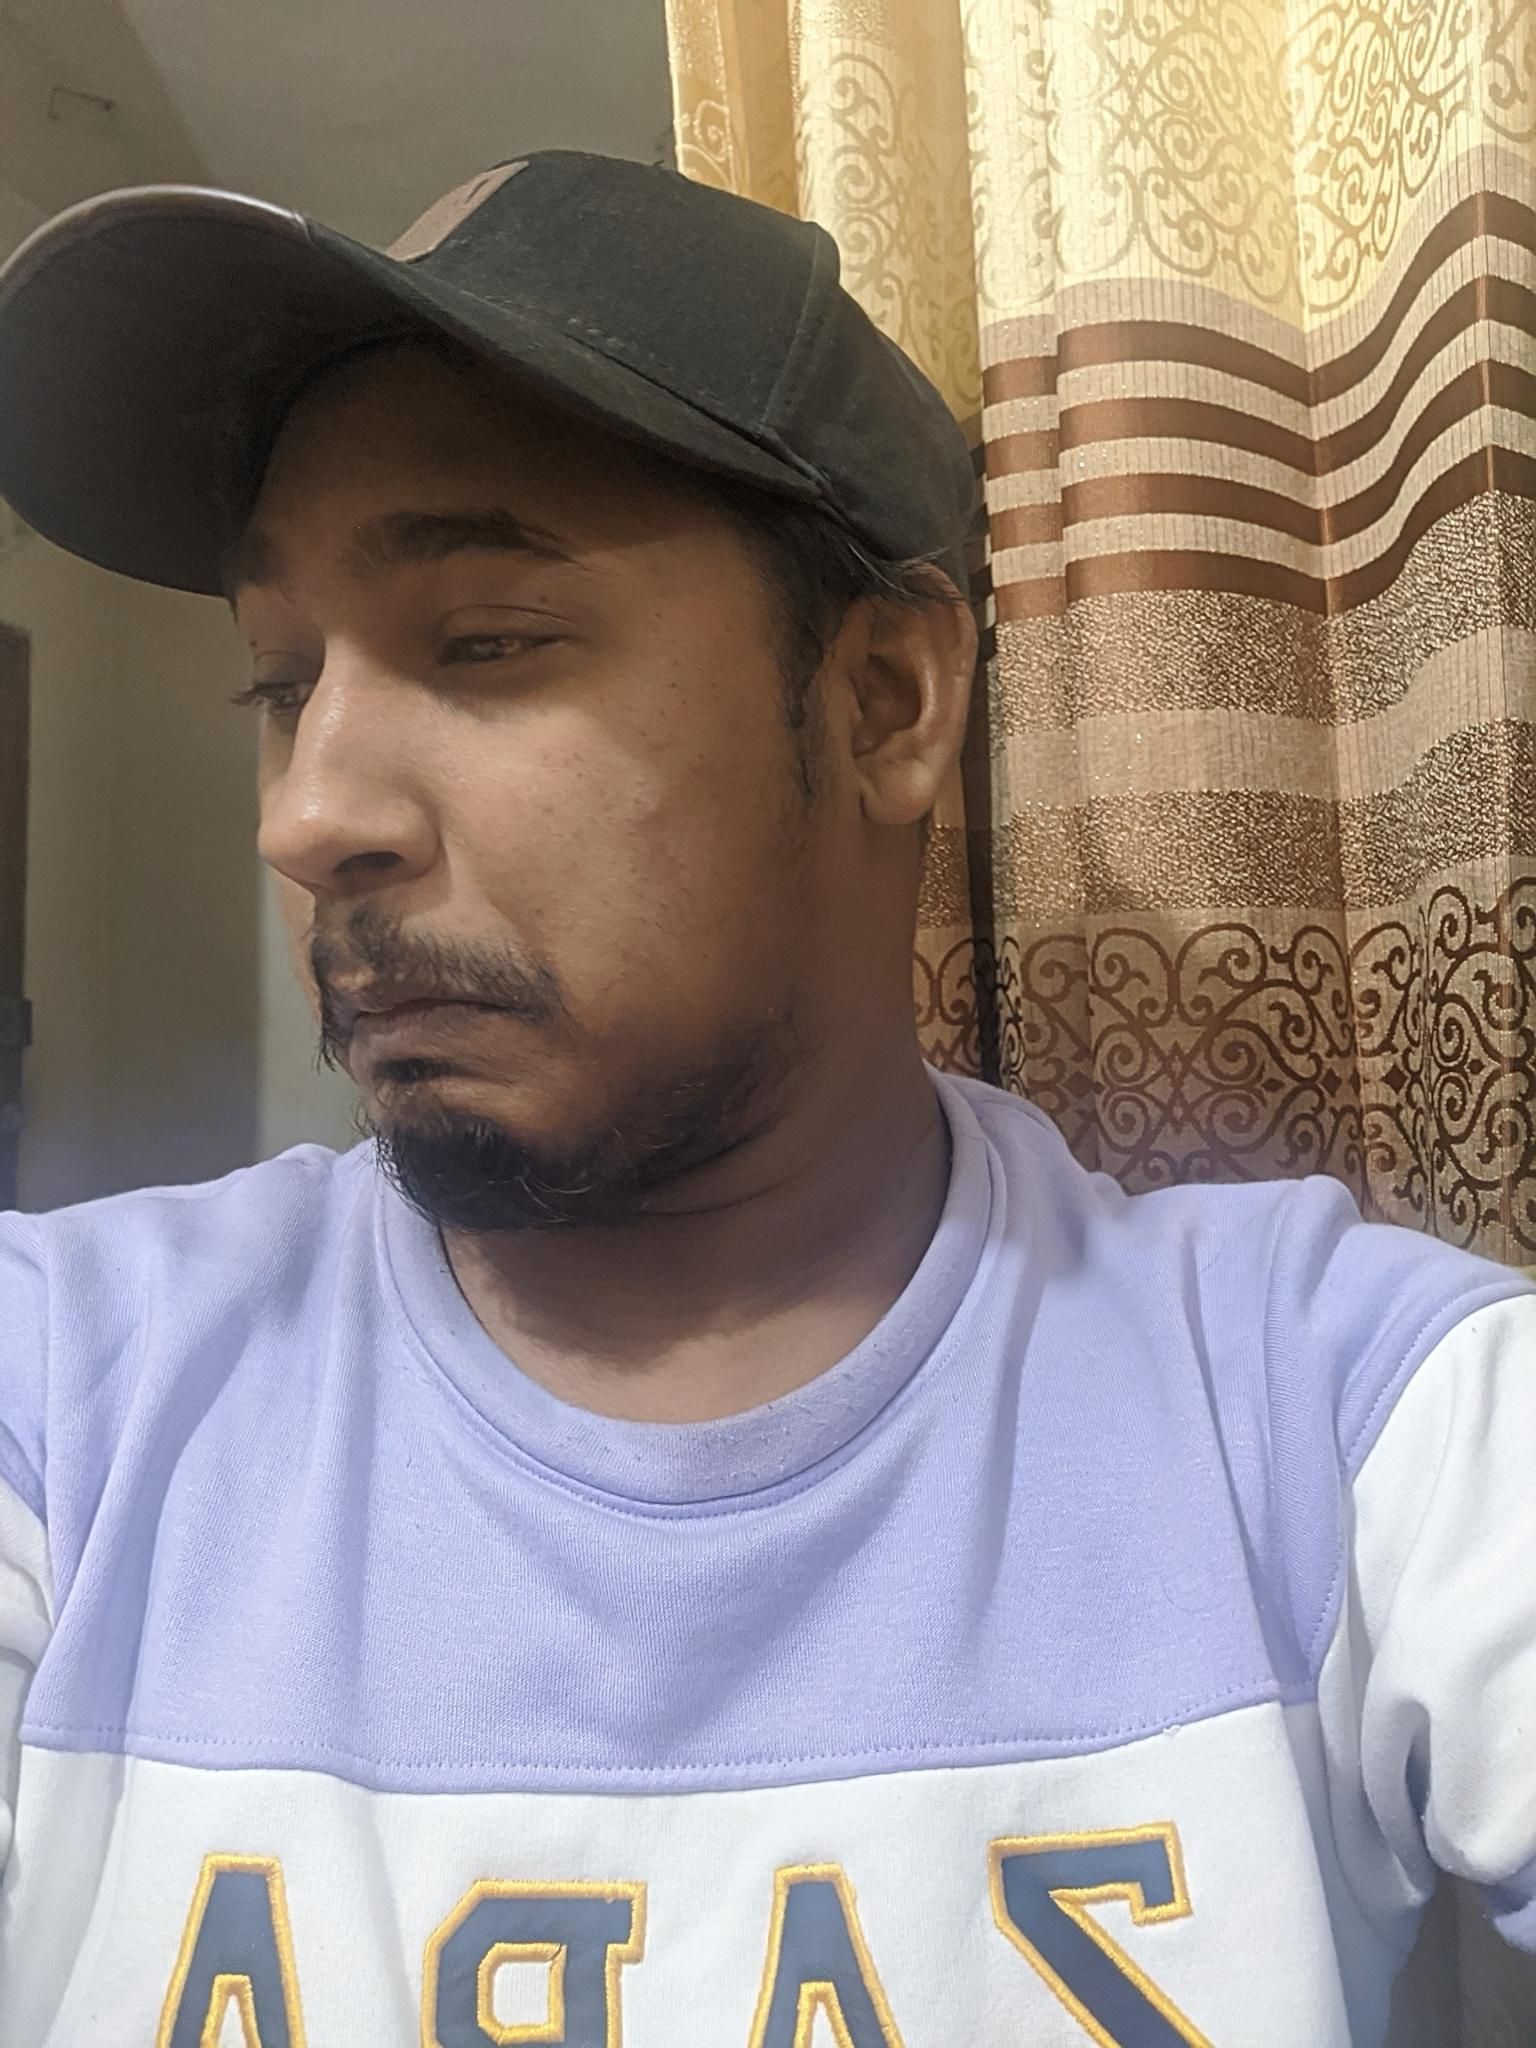Disgust: (139, 434, 713, 1227)
